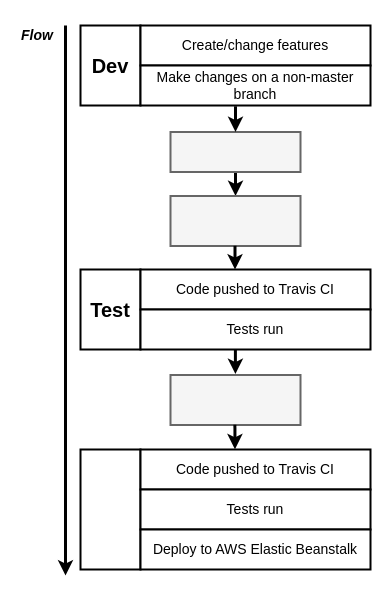
The diagram is 388 pixels wide and 602 high, and some of its shapes have lost their labels. The centre of each missing label's shape, as x and y in pixels:
Create Pull Request to merge with master: point 235,220
Merge PR with master: point 235,400
Prod: point 110,509
Push to github: point 235,151
